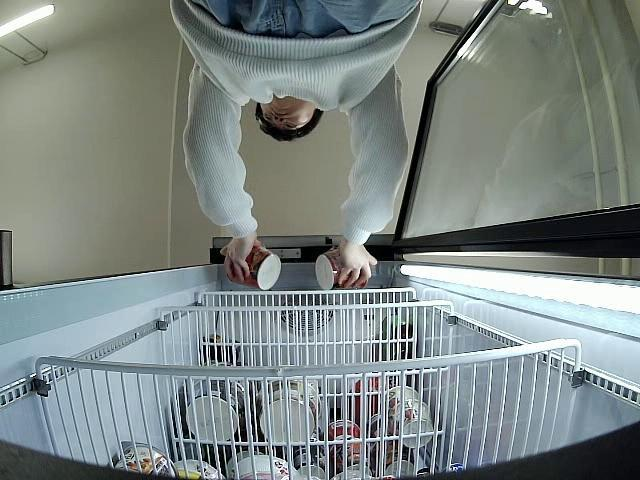01_ShinRamen_L: (225, 240, 282, 289), (316, 244, 370, 290)
